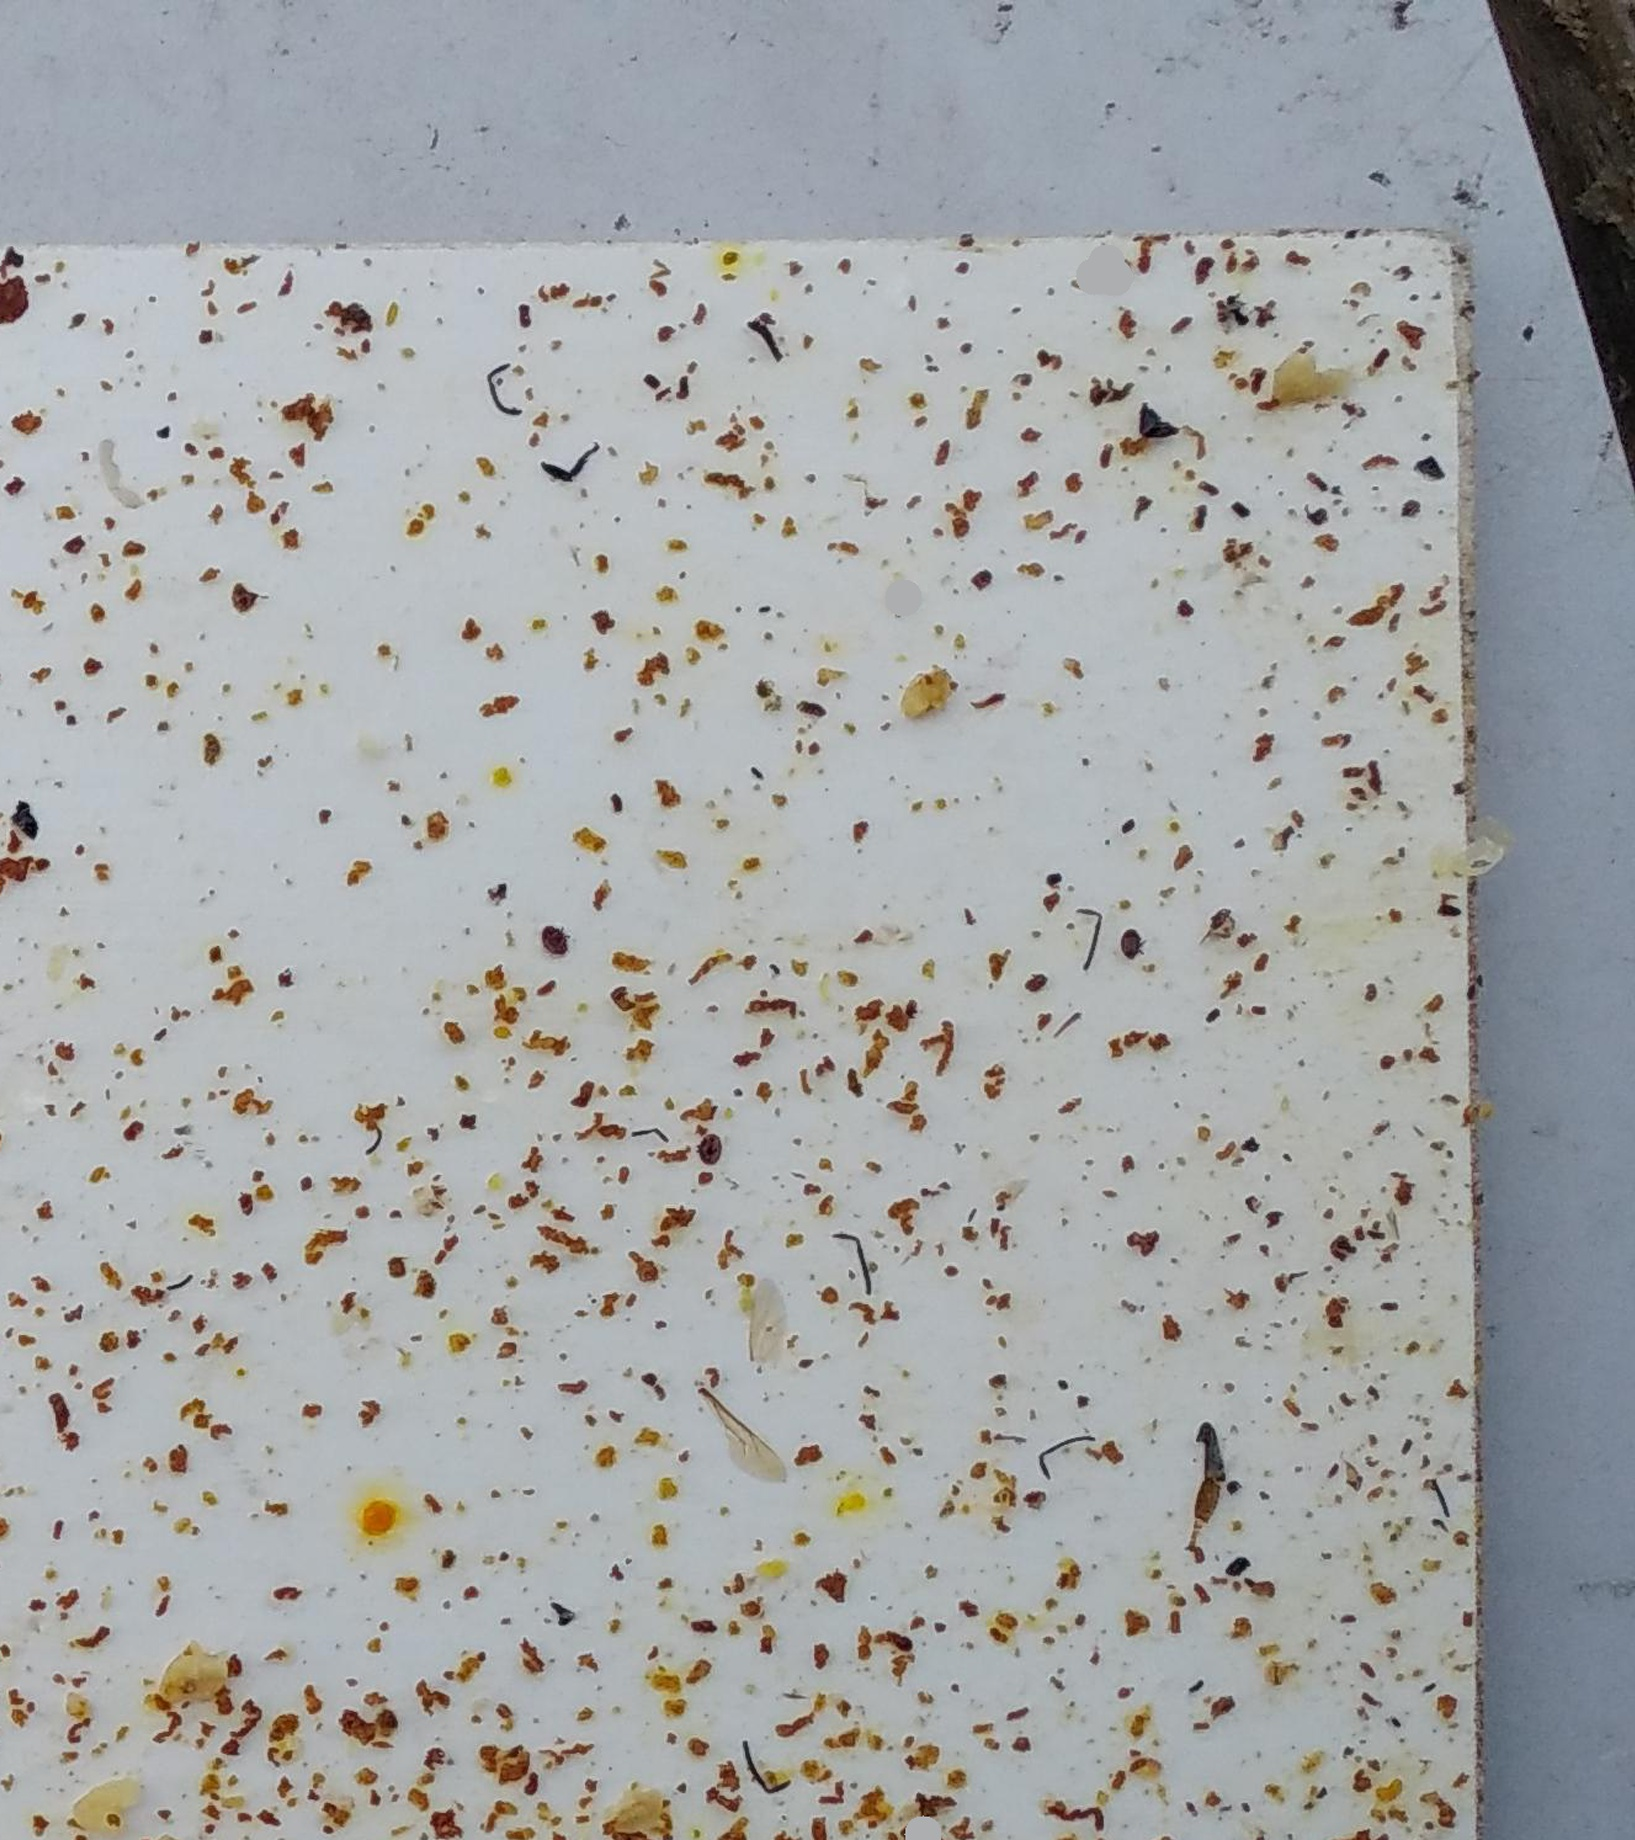Varroa: (1117, 933, 1147, 959), (540, 923, 567, 950), (696, 1143, 713, 1169), (705, 1135, 726, 1157)
